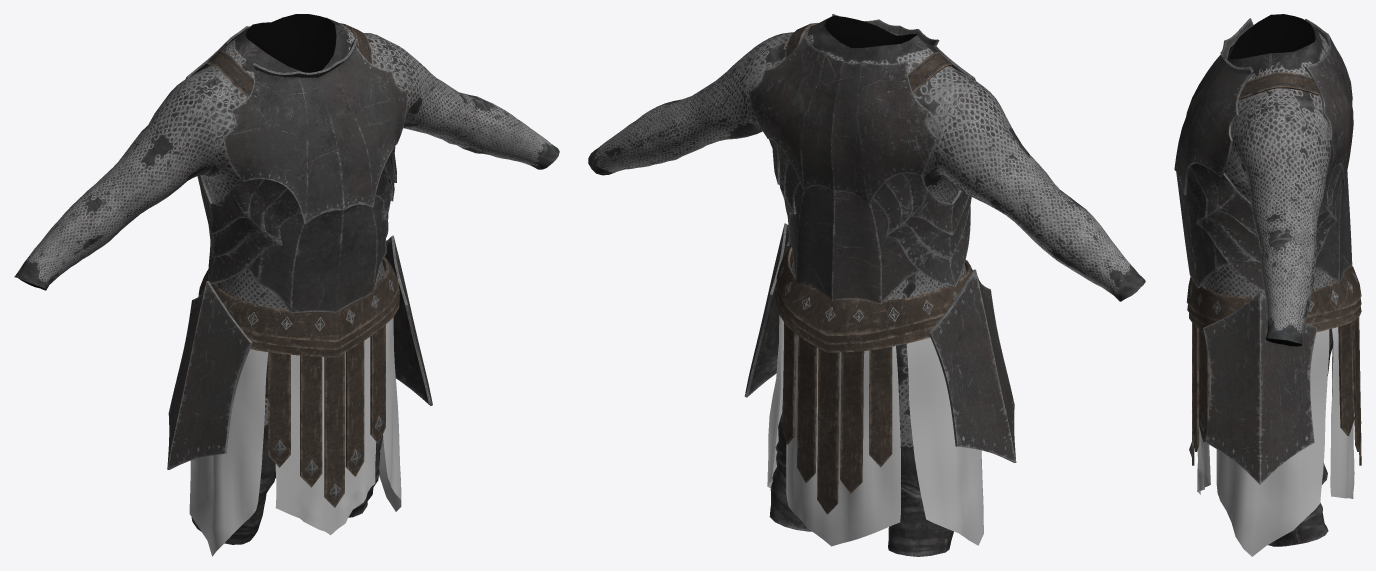
File: sk_uruk_mordor_chainmail_heavy_b1.fbx
The picture shows the model from 3 angles, left to right: view 1: azimuth 30°, elevation 25°; view 2: azimuth 150°, elevation 25°; view 3: azimuth 270°, elevation 25°; orthographic projection. The views are drawn at different scales.
Parts seen in each view (by area): view 1: sk_uruk_mordor_chainmail_heavy_b1.3, sk_uruk_mordor_chainmail_heavy_b1.0, sk_uruk_mordor_chainmail_heavy_b1.1, sk_uruk_mordor_chainmail_heavy_b1.2, sk_uruk_mordor_chainmail_heavy_b1.4; view 2: sk_uruk_mordor_chainmail_heavy_b1.0, sk_uruk_mordor_chainmail_heavy_b1.3, sk_uruk_mordor_chainmail_heavy_b1.1, sk_uruk_mordor_chainmail_heavy_b1.2, sk_uruk_mordor_chainmail_heavy_b1.4; view 3: sk_uruk_mordor_chainmail_heavy_b1.0, sk_uruk_mordor_chainmail_heavy_b1.3, sk_uruk_mordor_chainmail_heavy_b1.4, sk_uruk_mordor_chainmail_heavy_b1.2, sk_uruk_mordor_chainmail_heavy_b1.1.
Part boxes in pixels (x1,y1,x2,y2): sk_uruk_mordor_chainmail_heavy_b1.3: (185, 17, 407, 313); sk_uruk_mordor_chainmail_heavy_b1.0: (14, 14, 559, 544); sk_uruk_mordor_chainmail_heavy_b1.1: (198, 23, 399, 507); sk_uruk_mordor_chainmail_heavy_b1.2: (189, 317, 401, 556); sk_uruk_mordor_chainmail_heavy_b1.4: (167, 235, 432, 469); sk_uruk_mordor_chainmail_heavy_b1.0: (588, 15, 1145, 556); sk_uruk_mordor_chainmail_heavy_b1.3: (749, 14, 975, 304); sk_uruk_mordor_chainmail_heavy_b1.1: (774, 22, 972, 514); sk_uruk_mordor_chainmail_heavy_b1.2: (767, 315, 983, 546); sk_uruk_mordor_chainmail_heavy_b1.4: (744, 223, 1016, 462); sk_uruk_mordor_chainmail_heavy_b1.0: (1202, 14, 1333, 546); sk_uruk_mordor_chainmail_heavy_b1.3: (1174, 18, 1353, 291); sk_uruk_mordor_chainmail_heavy_b1.4: (1203, 291, 1317, 484); sk_uruk_mordor_chainmail_heavy_b1.2: (1197, 327, 1354, 556); sk_uruk_mordor_chainmail_heavy_b1.1: (1186, 72, 1361, 465).
Bounding box in the file's own units: 1.37 × 0.4256 × 1.21.
